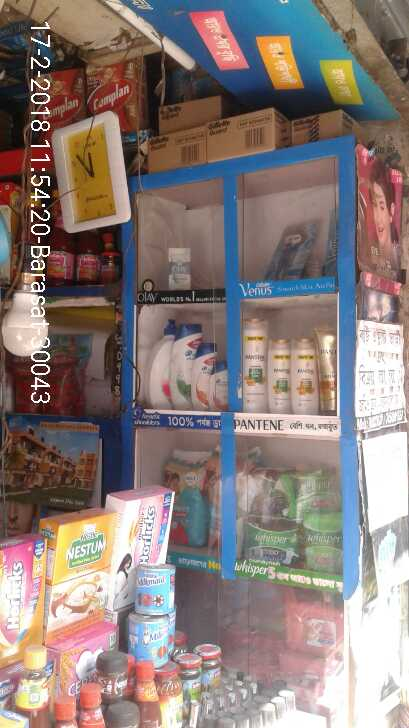venus: (264, 217, 318, 281)
